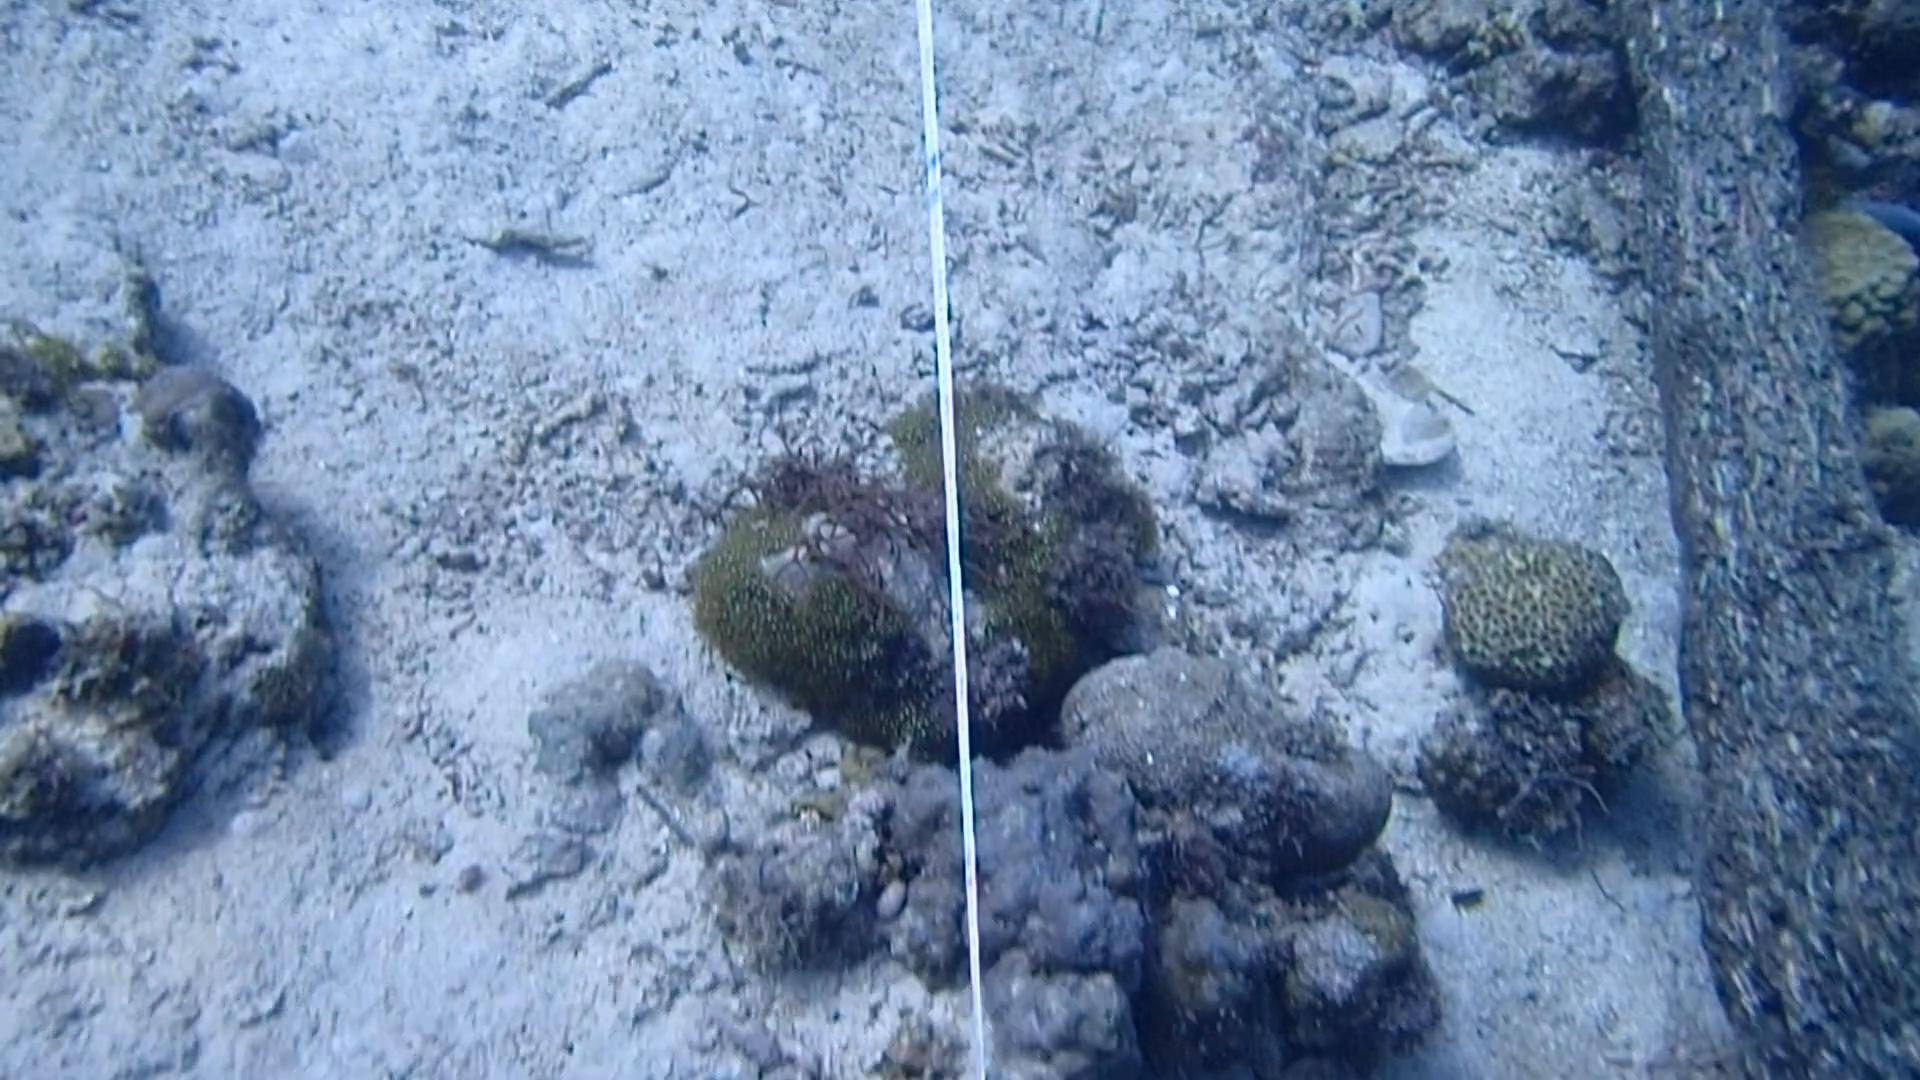UI: (1439, 876, 1498, 924)
